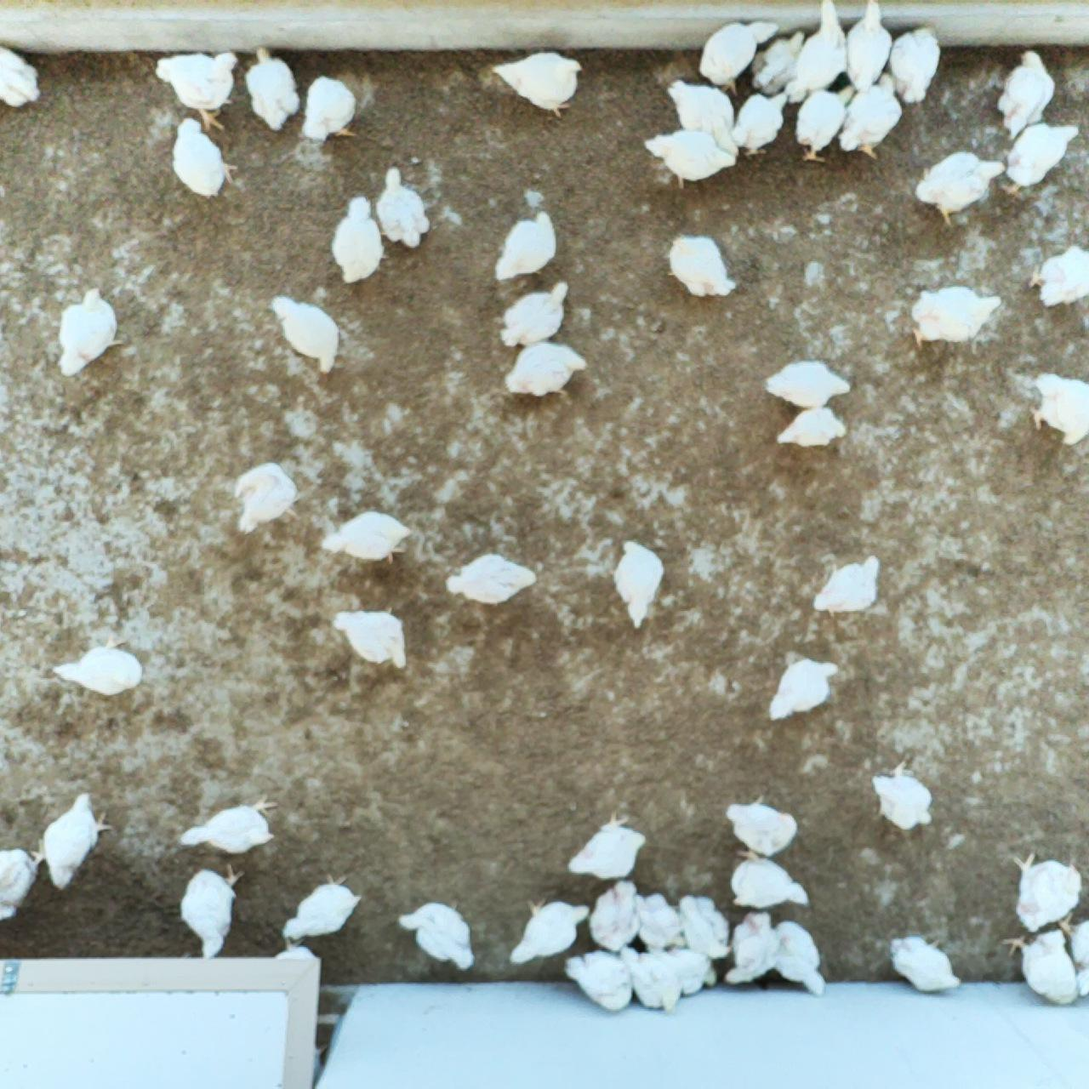chicken: (40, 788, 114, 892), (912, 148, 1005, 230), (153, 49, 242, 134), (781, 0, 850, 104), (1001, 922, 1082, 1006), (1007, 847, 1085, 934), (178, 792, 282, 857), (491, 48, 586, 119), (180, 860, 248, 959), (395, 894, 479, 974), (55, 284, 125, 379), (507, 892, 590, 972), (50, 631, 145, 700), (908, 284, 1005, 351), (696, 20, 781, 96), (666, 76, 742, 160), (999, 121, 1083, 197), (168, 116, 242, 201), (641, 128, 739, 192), (837, 70, 905, 162), (269, 293, 343, 376), (994, 47, 1058, 142), (564, 809, 649, 878), (282, 872, 364, 942), (319, 507, 416, 566), (330, 191, 391, 284), (724, 847, 814, 910), (792, 83, 859, 165), (233, 459, 305, 535), (663, 230, 739, 302), (610, 537, 667, 633), (443, 551, 538, 607), (765, 656, 842, 723), (331, 605, 409, 671), (374, 166, 433, 253), (498, 279, 571, 349), (866, 758, 935, 832), (244, 46, 303, 132), (561, 946, 636, 1013), (725, 793, 801, 859), (811, 551, 883, 620), (503, 341, 590, 398), (493, 209, 560, 283), (888, 934, 962, 1001), (760, 357, 853, 409), (844, 0, 894, 96), (770, 920, 830, 999), (1027, 371, 1089, 446), (721, 910, 779, 988), (887, 24, 943, 104), (729, 90, 792, 161), (624, 947, 684, 1019), (748, 28, 809, 96), (300, 73, 359, 143), (1027, 242, 1089, 308), (588, 876, 641, 953), (675, 890, 733, 960), (0, 845, 45, 921), (775, 407, 849, 451), (636, 892, 686, 951), (1057, 910, 1089, 1000), (666, 946, 721, 997), (0, 43, 43, 108)
